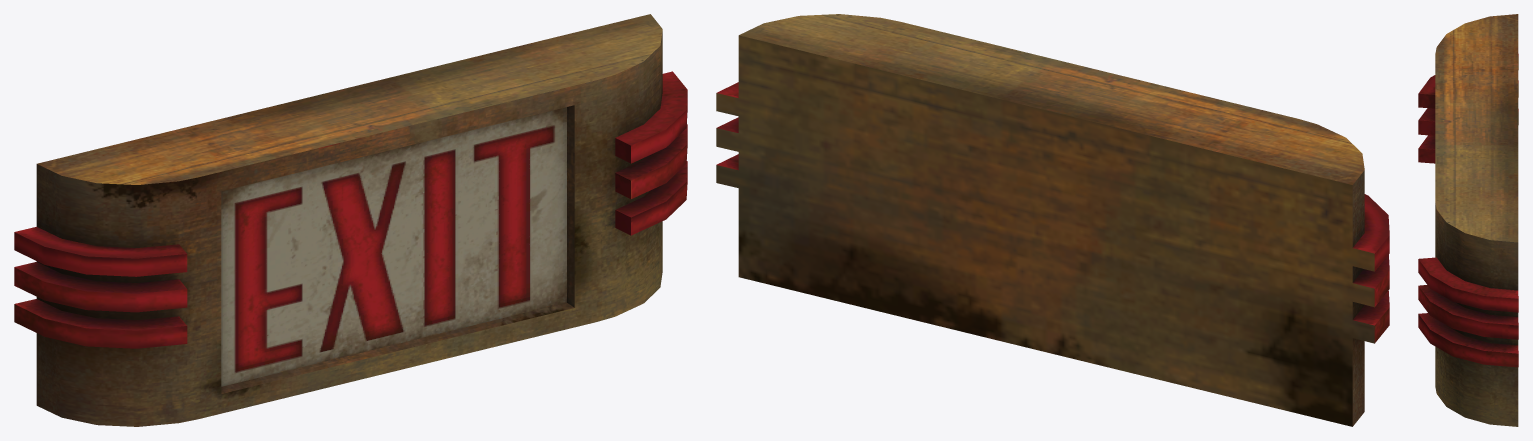
File: Exit_Sign.obj
The picture shows the model from 3 angles, left to right: view 1: azimuth 30°, elevation 25°; view 2: azimuth 150°, elevation 25°; view 3: azimuth 270°, elevation 25°; orthographic projection. The views are drawn at different scales.
Visible parts, largest first — view 1: Exit_Sign; view 2: Exit_Sign; view 3: Exit_Sign.
Boxes of the visible parts, <box> form: Exit_Sign: <box>14,14,687,426</box>; Exit_Sign: <box>716,14,1389,426</box>; Exit_Sign: <box>1418,14,1518,426</box>.
Size of the model in its own units: 182 by 63.95 by 31.48.
1 material, 1 textured.
